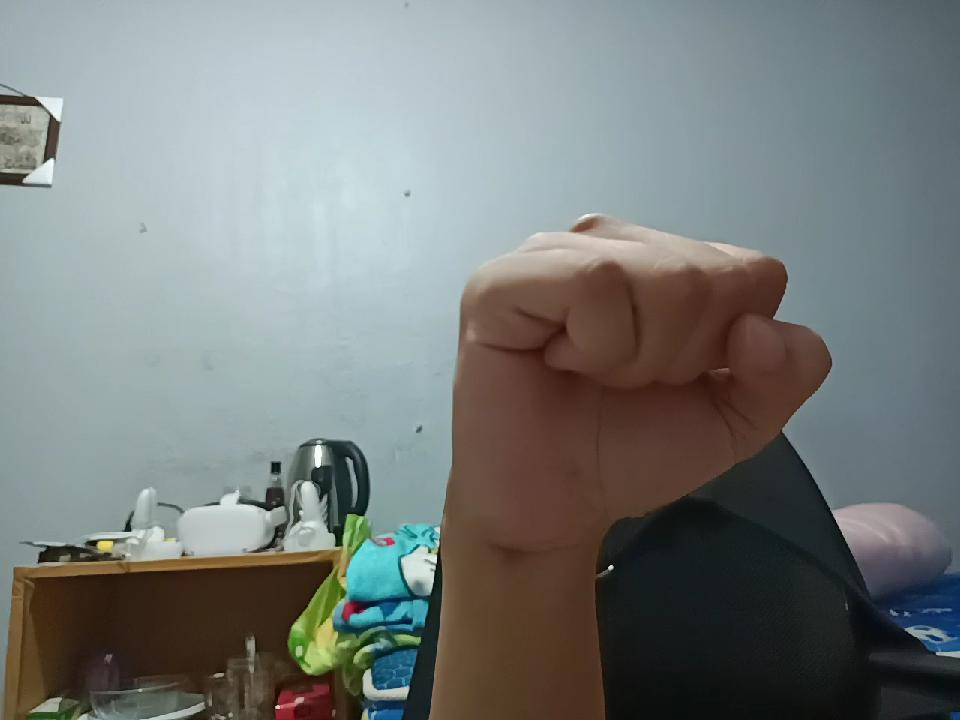rock: (464, 205, 790, 552)
